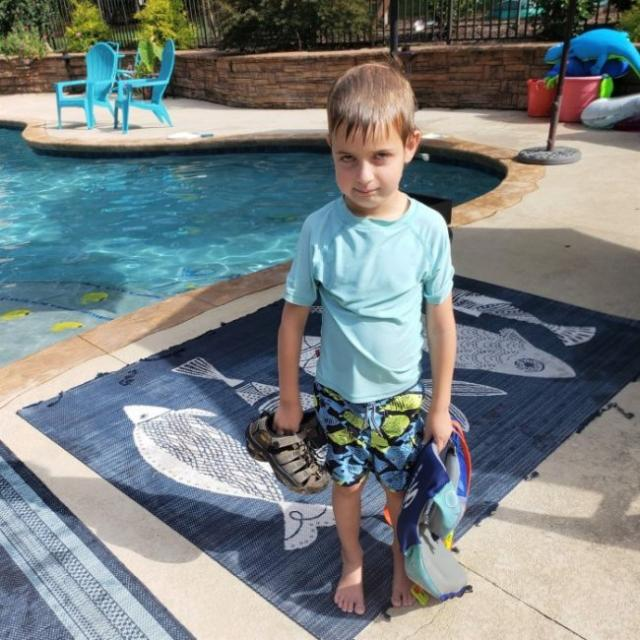child: (268, 62, 460, 618)
